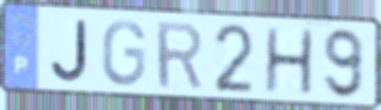2: (212, 21, 256, 95)
9: (320, 26, 366, 101)
G: (100, 18, 148, 88)
H: (262, 26, 316, 97)
J: (48, 17, 90, 85)
R: (153, 19, 206, 92)
